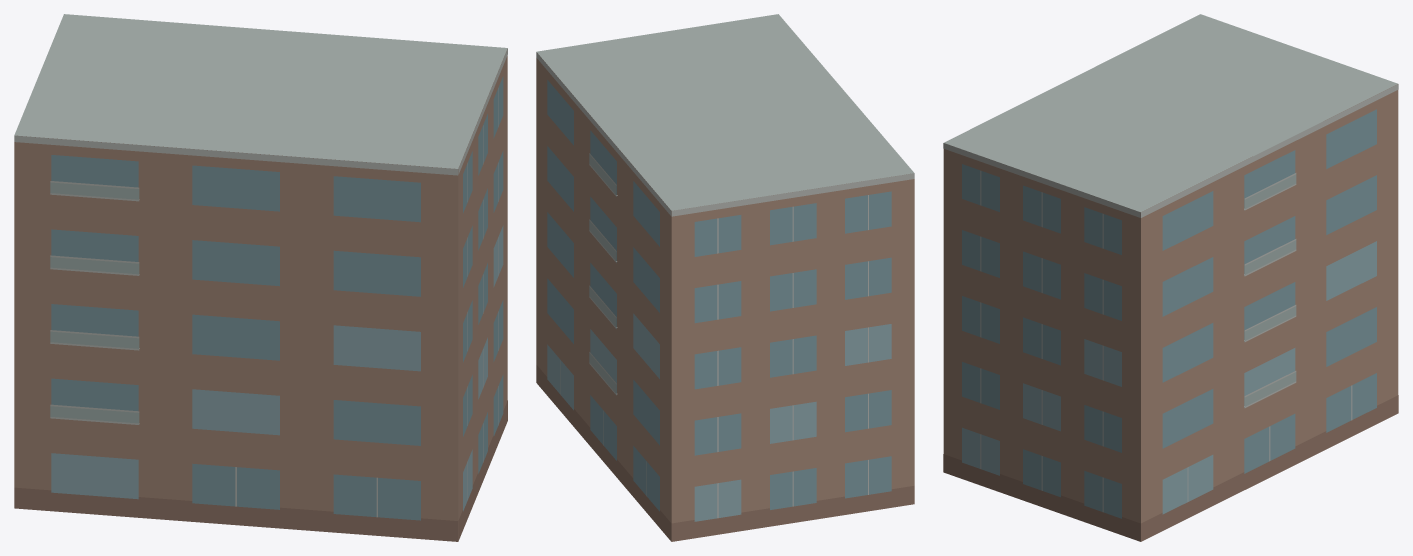
File: survey-upis-32933336.glb
3 renders of one model, left to right at view 1: azimuth 30°, elevation 25°; view 2: azimuth 150°, elevation 25°; view 3: azimuth 270°, elevation 25°, orthographic. The views are drawn at different scales.
Parts seen in each view (by area): view 1: survey-upis-32933336.tmp; view 2: survey-upis-32933336.tmp; view 3: survey-upis-32933336.tmp.
Boxes of the visible parts, left/top/right/bottom form: survey-upis-32933336.tmp: left=14, top=14, right=507, bottom=541; survey-upis-32933336.tmp: left=536, top=14, right=914, bottom=541; survey-upis-32933336.tmp: left=943, top=14, right=1398, bottom=541.
Size of the model in its own units: 17.95 by 13.9 by 17.4.
